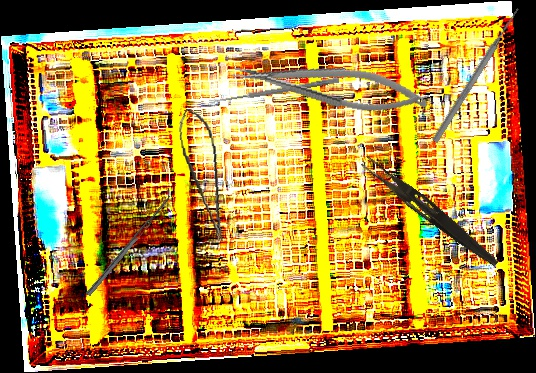Dressing Forceps: (356, 154, 505, 270)
Micro Scissor: (175, 106, 228, 245)
Needle Holder: (229, 46, 432, 124)
Pusher: (430, 5, 523, 145)
Spatula Surgical: (82, 187, 176, 297)
Surgical Spoon: (208, 76, 340, 106)
